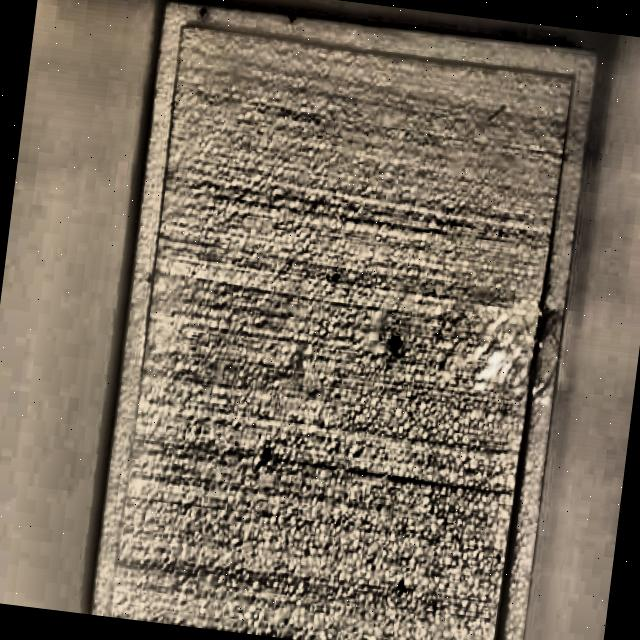trash: (87, 2, 598, 640)
